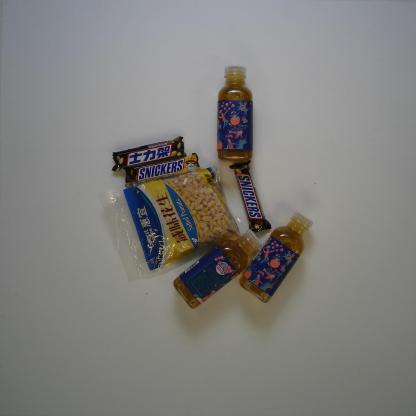Chocolate: (229, 159, 272, 233), (122, 152, 200, 189), (110, 136, 188, 172)
Dried Fruit: (99, 162, 248, 284)
Drink: (172, 228, 264, 310), (238, 209, 314, 304), (215, 64, 254, 161)
